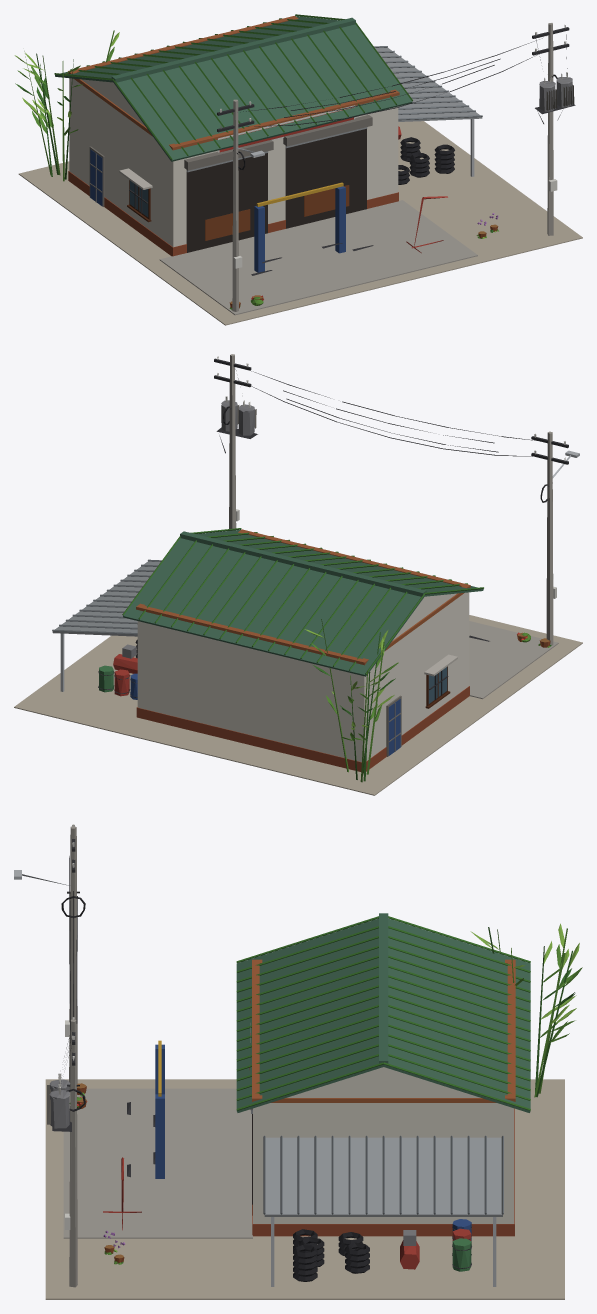
File: factory_1.glb
3 renders of one model, top to bottom at view 1: azimuth 30°, elevation 25°; view 2: azimuth 150°, elevation 25°; view 3: azimuth 270°, elevation 25°, orthographic. The views are drawn at different scales.
Visible parts, largest first — view 1: body, windows; view 2: body; view 3: body.
Boxes of the visible parts, <box> form: body: <box>14,14,582,325</box>; windows: <box>130,128,366,252</box>; body: <box>14,354,582,795</box>; body: <box>14,824,582,1299</box>.
Bounding box in the file's own units: 16.19 × 9.29 × 17.43.
